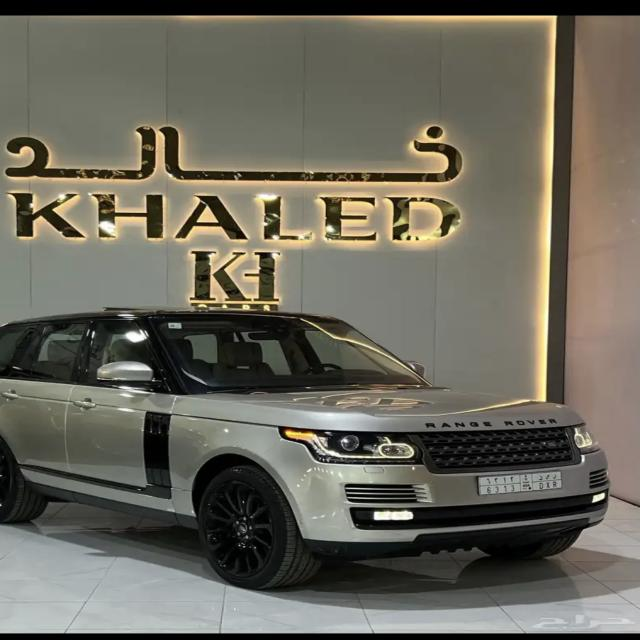license_plate: (478, 470, 563, 496)
